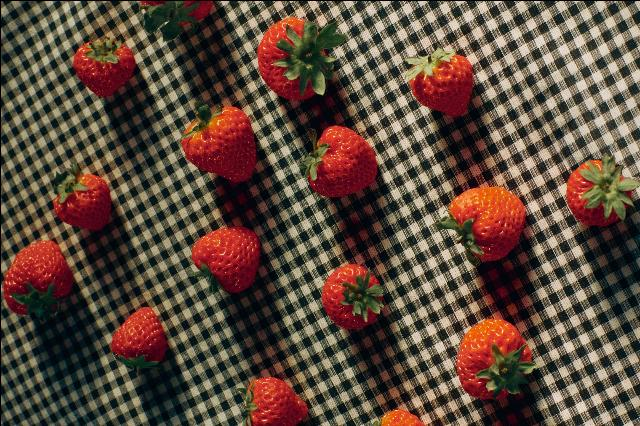Strawberries: (257, 11, 333, 101), (180, 104, 258, 182), (456, 318, 530, 400), (448, 186, 522, 260), (3, 238, 72, 314), (304, 126, 378, 196), (566, 155, 630, 227), (189, 228, 257, 293), (411, 52, 474, 114), (110, 306, 168, 372), (322, 264, 382, 326), (72, 38, 132, 98), (51, 172, 112, 228), (242, 378, 308, 426)
